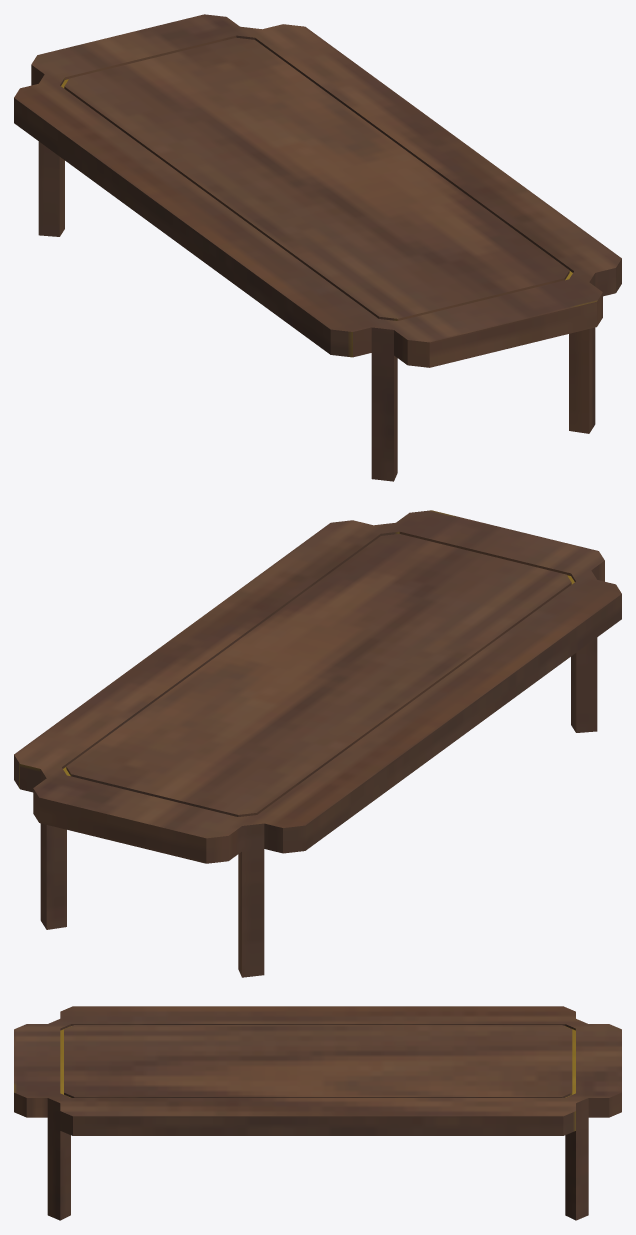
Rendered from con-table2.glb.
3 views of the same model, one above another, from view 1: azimuth 30°, elevation 25°; view 2: azimuth 150°, elevation 25°; view 3: azimuth 270°, elevation 25° (orthographic). The views are drawn at different scales.
Visible parts, largest first — view 1: conference_table; view 2: conference_table; view 3: conference_table.
Part boxes in pixels (x1,y1,x2,y2): conference_table: (14, 14, 621, 481); conference_table: (14, 510, 621, 977); conference_table: (14, 1006, 621, 1220).
Size of the model in its own units: 3 by 1.49 by 7.
Materials: 1 (1 with a texture image).
